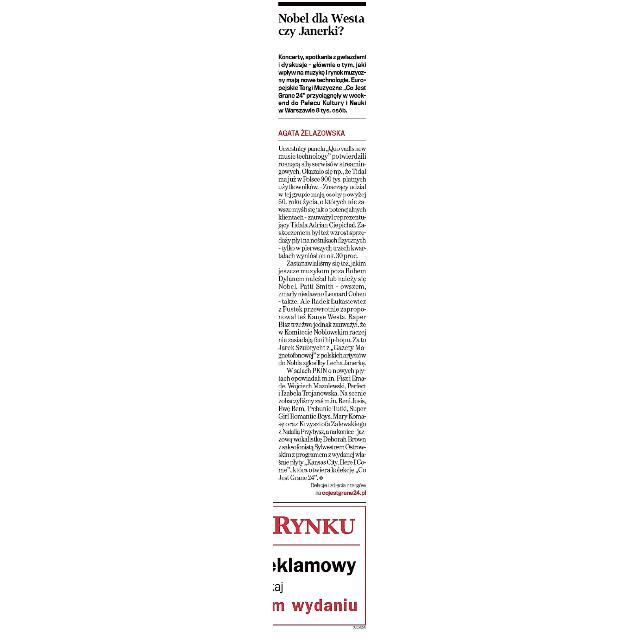author: (276, 128, 346, 138)
body: (275, 142, 367, 482)
lead: (276, 51, 366, 115)
title: (276, 10, 364, 40)
